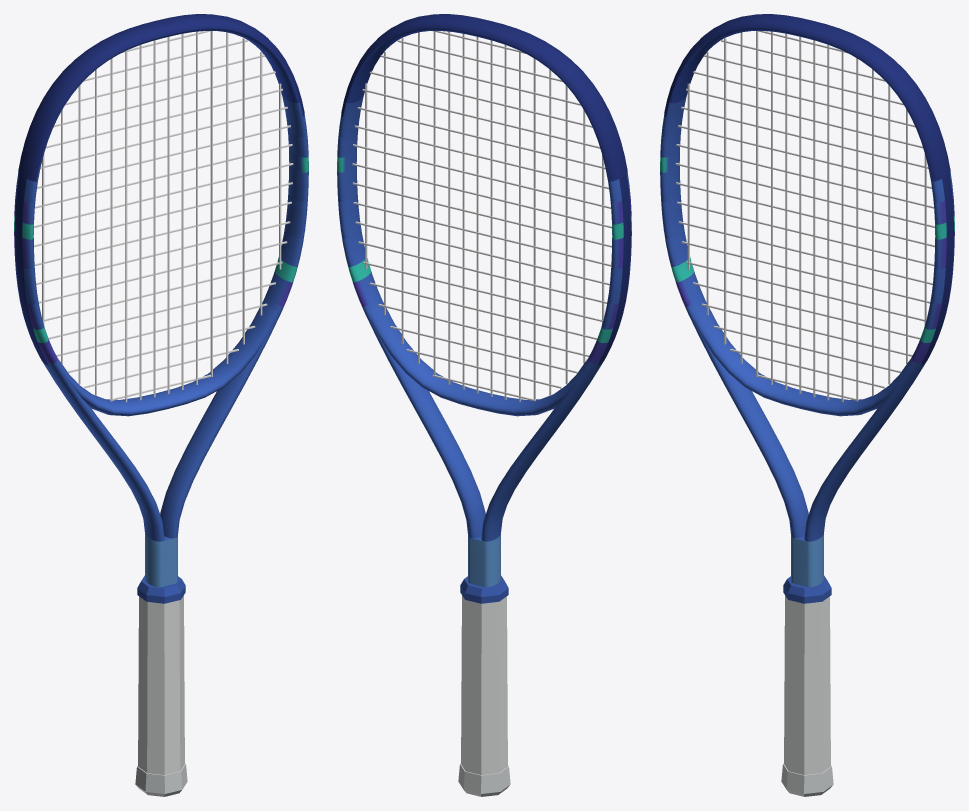
File: yonex-ezone-105-2025.glb
3 views of the same model, side by side, from view 1: azimuth 30°, elevation 25°; view 2: azimuth 150°, elevation 25°; view 3: azimuth 330°, elevation 25° (orthographic).
Parts seen in each view (by area): view 1: frame, strings_mains, strings_crosses, grip, bumper, grommets, butt_cap, collar; view 2: frame, strings_mains, strings_crosses, grip, bumper, grommets, butt_cap, collar; view 3: frame, strings_mains, strings_crosses, grip, bumper, grommets, butt_cap, collar.
Part boxes in pixels (<box>): frame: <box>14,28,308,587</box>; strings_mains: <box>42,31,281,402</box>; strings_crosses: <box>34,31,293,401</box>; grip: <box>138,595,184,774</box>; bumper: <box>18,14,304,181</box>; grommets: <box>15,174,48,365</box>; butt_cap: <box>135,763,187,796</box>; collar: <box>137,575,185,603</box>; frame: <box>337,28,631,587</box>; strings_mains: <box>365,31,604,401</box>; strings_crosses: <box>352,31,611,401</box>; grip: <box>461,595,507,774</box>; bumper: <box>341,14,627,181</box>; grommets: <box>597,174,630,365</box>; butt_cap: <box>458,763,510,796</box>; collar: <box>460,575,508,603</box>; frame: <box>660,28,954,587</box>; strings_mains: <box>687,31,926,402</box>; strings_crosses: <box>675,31,934,401</box>; grip: <box>784,595,830,774</box>; bumper: <box>664,14,950,181</box>; grommets: <box>920,174,953,365</box>; butt_cap: <box>781,763,833,796</box>; collar: <box>783,575,831,603</box>.
Bounding box in the file's own units: 0.2695 × 0.6861 × 0.0396.
